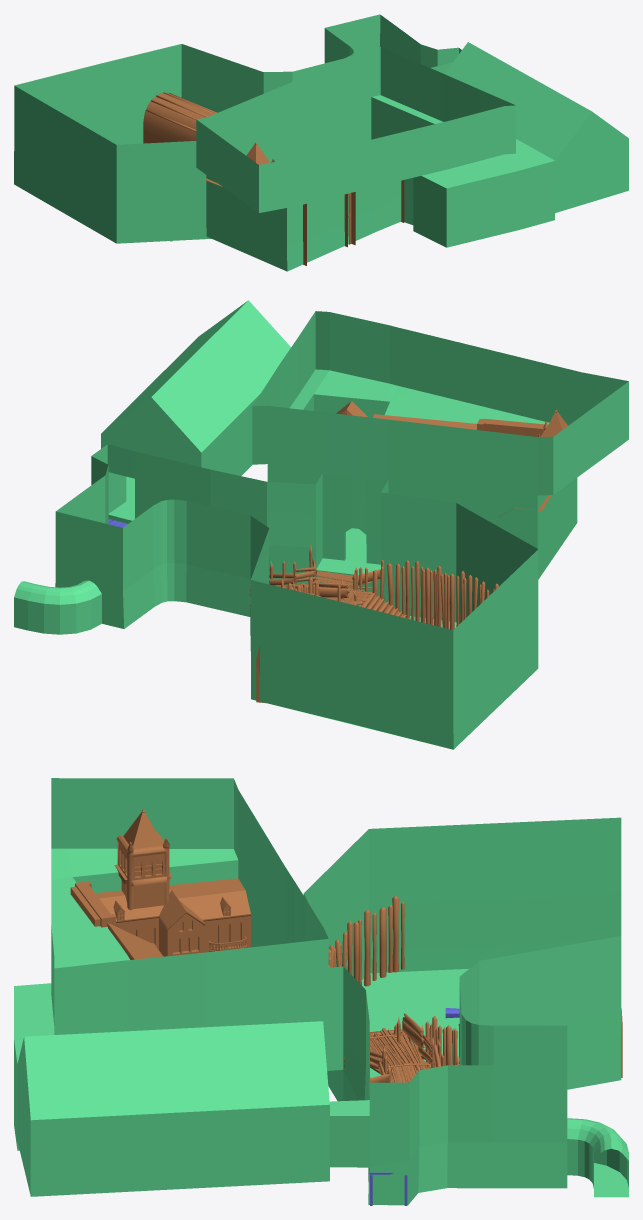
The model's file is LittleLexingtonn.fbx.
The picture shows the model from 3 angles, top to bottom: view 1: azimuth 30°, elevation 25°; view 2: azimuth 150°, elevation 25°; view 3: azimuth 270°, elevation 25°; orthographic projection. The views are drawn at different scales.
Visible parts, largest first — view 1: LittleLexingtonEntrance.001, SchoolHouse.001, Longhouse, QuakerHome, GeneralStore; view 2: LittleLexingtonEntrance.001, SchoolHouse.001, Pallisades, GeneralStore; view 3: LittleLexingtonEntrance.001, SchoolHouse.001, Church, Pallisades, GeneralStore, QuakerHome.
Boxes of the visible parts, x1,y1,x2,y2 form: LittleLexingtonEntrance.001: [14, 14, 515, 271]; SchoolHouse.001: [413, 42, 628, 247]; Longhouse: [143, 92, 217, 143]; QuakerHome: [348, 180, 404, 245]; GeneralStore: [303, 193, 347, 265]; LittleLexingtonEntrance.001: [14, 311, 628, 749]; SchoolHouse.001: [101, 300, 290, 520]; Pallisades: [250, 544, 498, 629]; GeneralStore: [477, 418, 548, 436]; LittleLexingtonEntrance.001: [51, 778, 628, 1205]; SchoolHouse.001: [14, 983, 369, 1196]; Church: [95, 809, 250, 956]; Pallisades: [328, 895, 459, 1082]; GeneralStore: [70, 881, 115, 927]; QuakerHome: [107, 922, 163, 959].
Bounding box in the file's own units: 3608 × 1278 × 3183.
